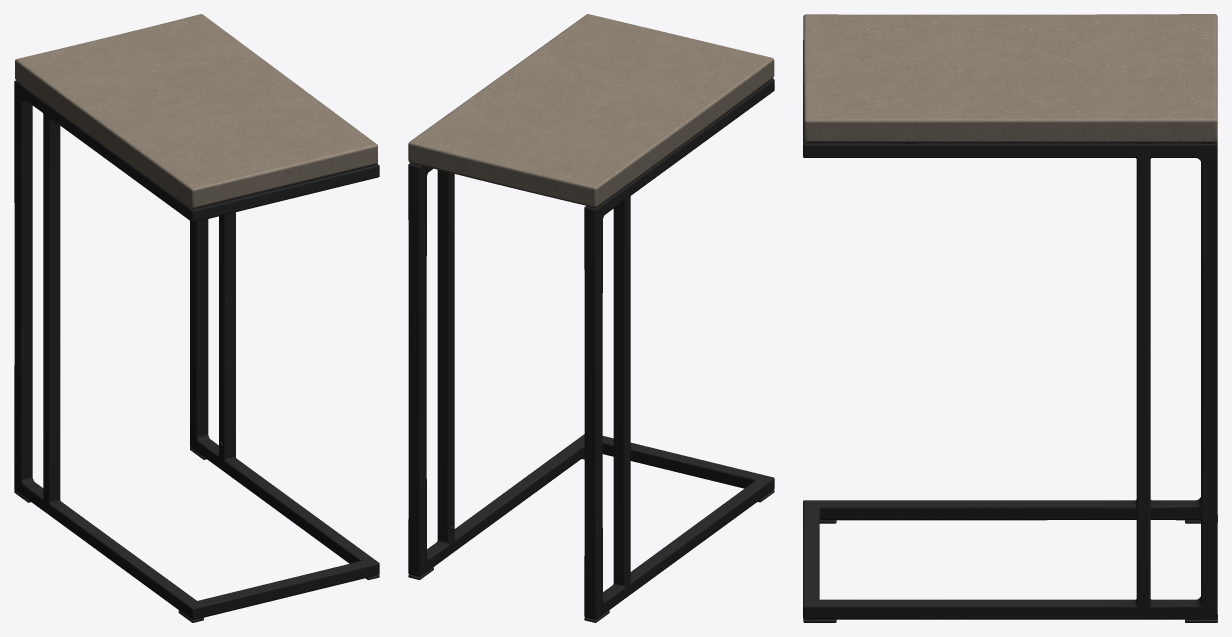
File: STBESN002GRY-UK-MDL-CM-FBX.fbx
3 renders of one model, left to right at view 1: azimuth 30°, elevation 25°; view 2: azimuth 150°, elevation 25°; view 3: azimuth 270°, elevation 25°, orthographic. The views are drawn at different scales.
Parts seen in each view (by area): view 1: CEMENT001, STEEL_BLACK001; view 2: STEEL_BLACK001, CEMENT001; view 3: CEMENT001, STEEL_BLACK001.
Part boxes in pixels (box(x1,y1,x2,y2)): CEMENT001: box(15, 14, 377, 208); STEEL_BLACK001: box(14, 80, 379, 620); STEEL_BLACK001: box(408, 78, 774, 619); CEMENT001: box(408, 14, 774, 207); CEMENT001: box(803, 14, 1217, 142); STEEL_BLACK001: box(803, 40, 1217, 619).
Size of what is drawn, in the model's own units: 30.08 by 66.32 by 49.48.
